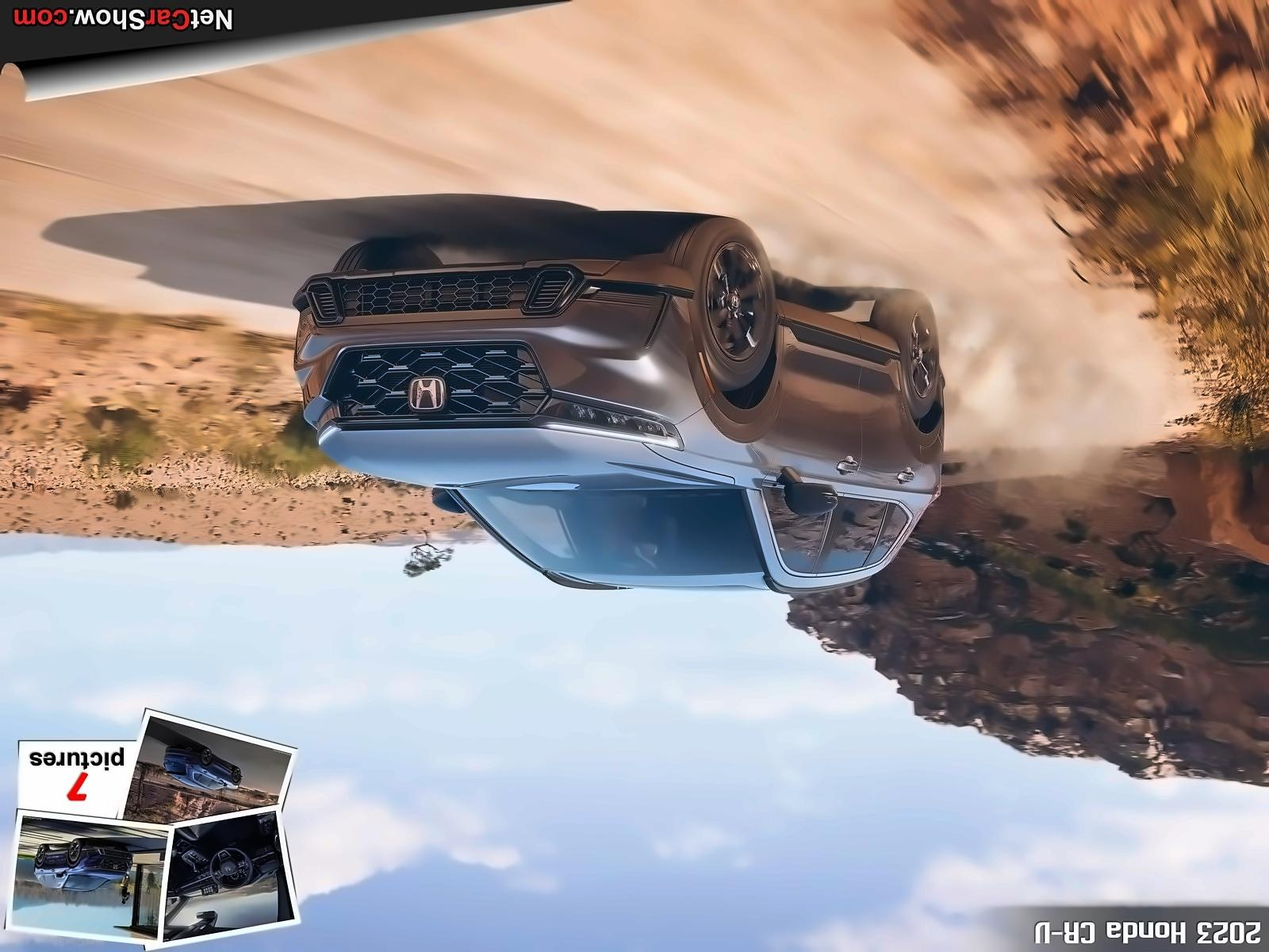Car hood: (315, 420, 739, 495)
Driver-s door - -F-R-: (760, 318, 865, 584)
Fender - -F-R-: (640, 301, 786, 495)
Fender - -R-R-: (897, 392, 945, 507)
Front bumper: (277, 251, 723, 415)
Headlight - -L-: (306, 390, 350, 448)
Headlight - -R-: (527, 384, 686, 455)
Passenger-s door - -R-R-: (826, 325, 923, 585)
Rear bumper: (931, 368, 957, 447)
Rear light - -R-: (928, 464, 951, 507)
Side bumper - -R-: (769, 295, 905, 377)
Side mirror - -L-: (418, 474, 474, 519)
Side mirror - -R-: (774, 459, 844, 523)
